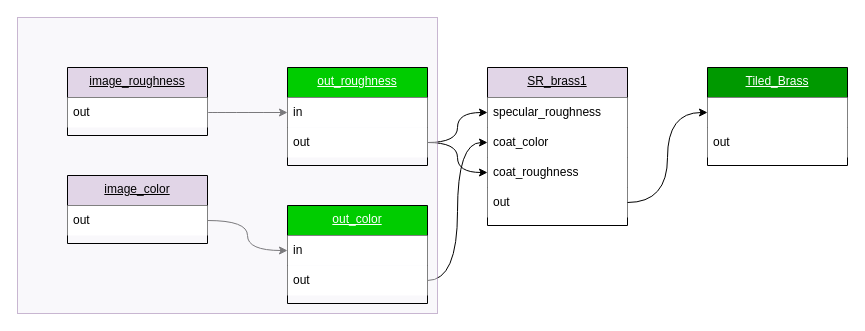
The diagram is 865 pixels wide and 331 high, and some of its shapes have lost their labels. The shapes that lost their labels are listed below. From the top down, each one's centre as x and y in pixels, then its label:
the point at 777,112: surfaceshader
the point at 227,165: NG_brass1
